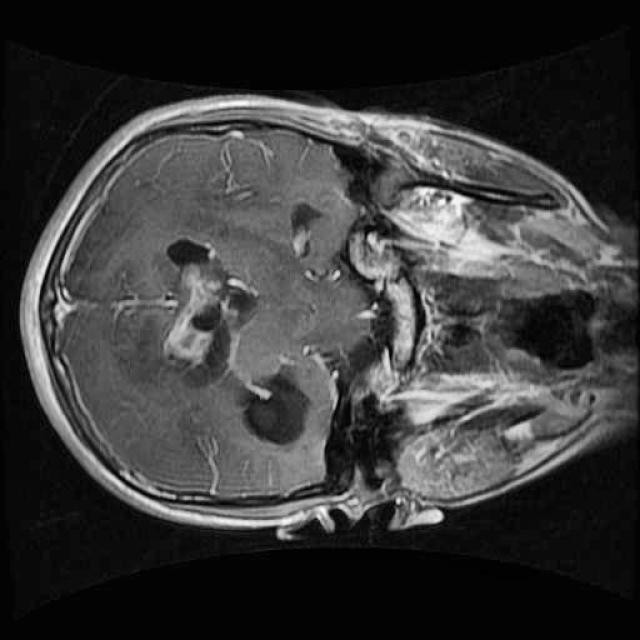Tumor: (124, 221, 271, 398)
